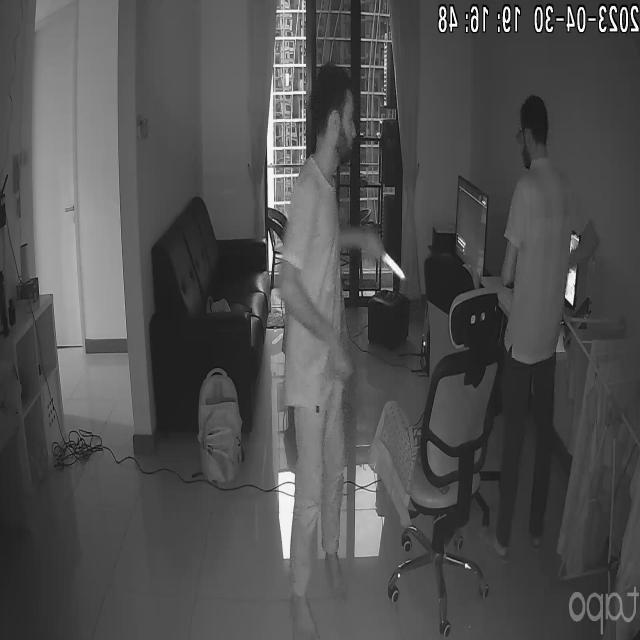Knife: (358, 231, 418, 286)
